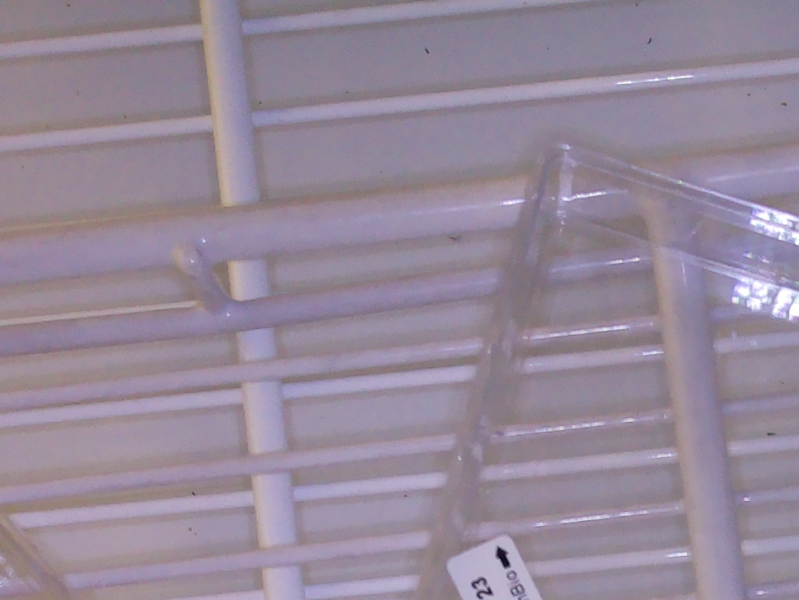plate: (415, 142, 799, 600)
